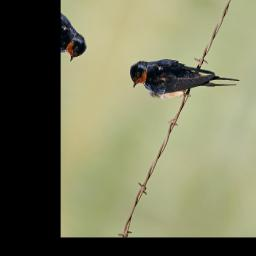Swallow: (123, 36, 242, 126)
